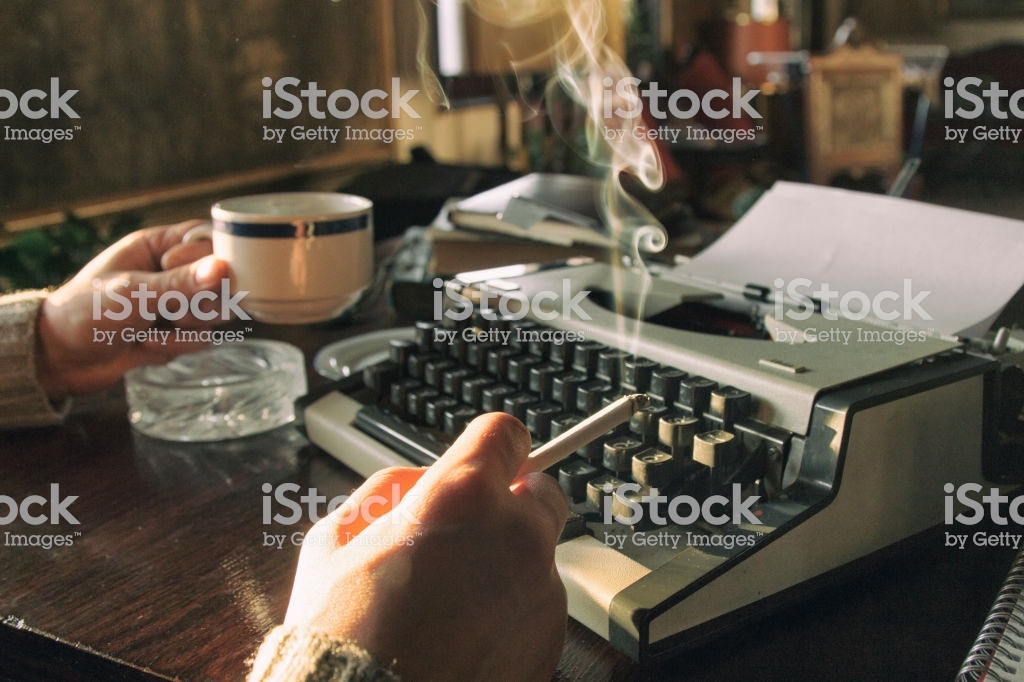sigaretta: (496, 389, 657, 495)
